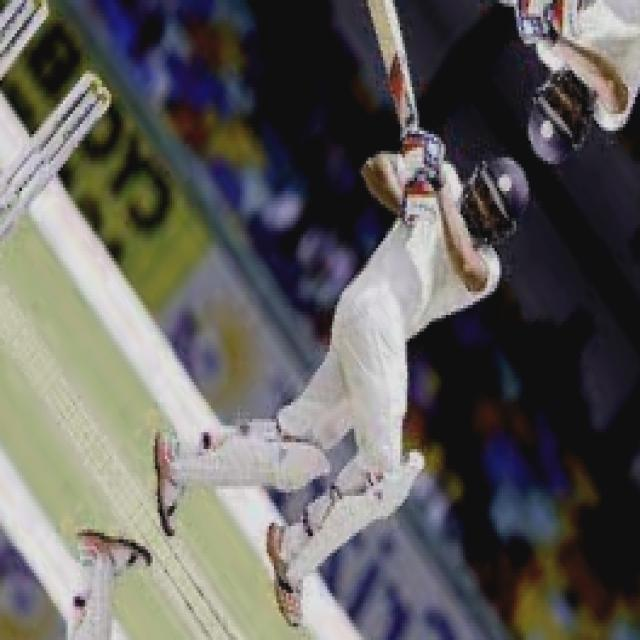toe: (366, 0, 400, 16)
